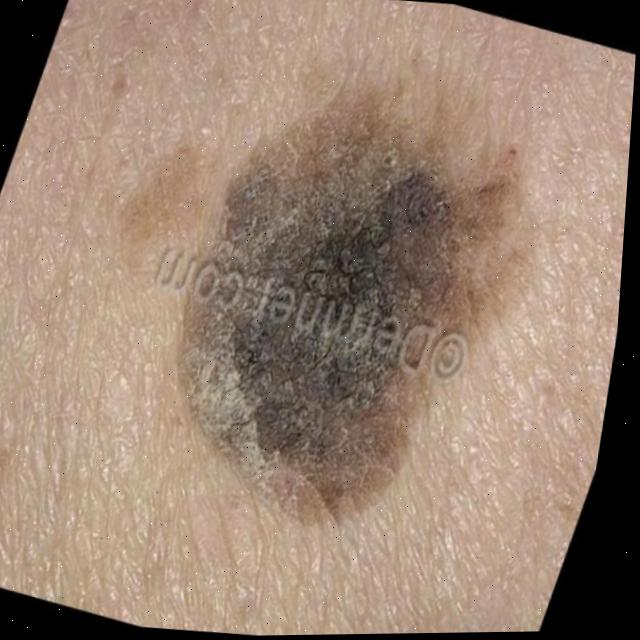Eczema: (168, 128, 505, 545)
